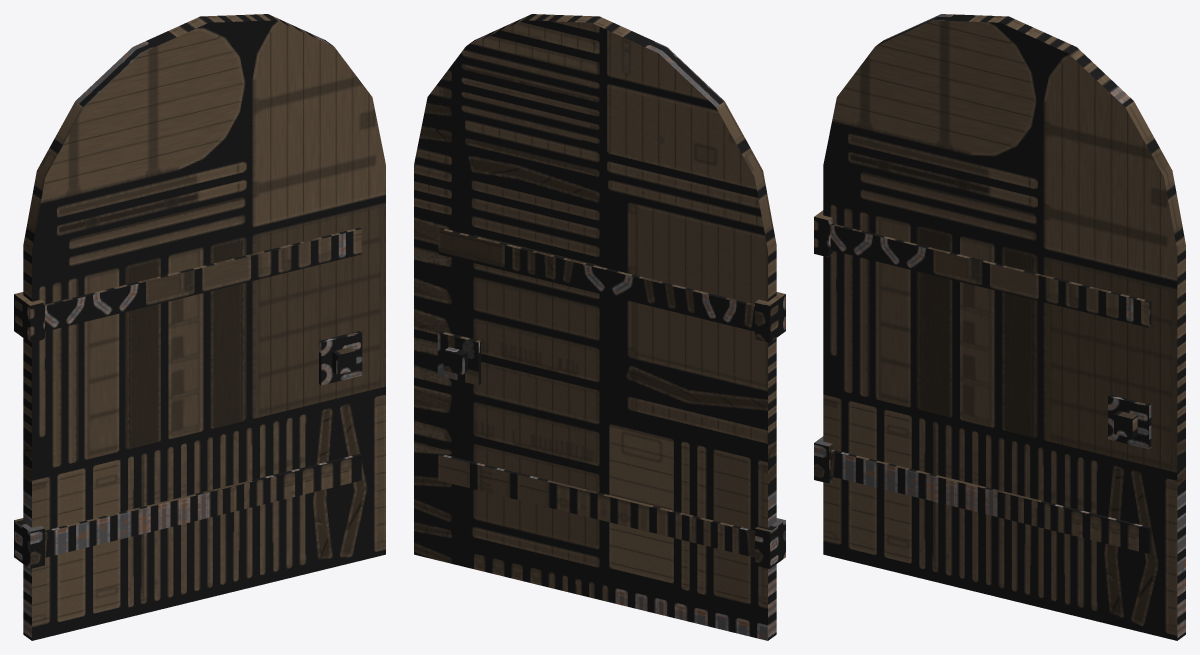
The model's file is porte.fbx.
3 views of the same model, side by side, from view 1: azimuth 30°, elevation 25°; view 2: azimuth 150°, elevation 25°; view 3: azimuth 330°, elevation 25° (orthographic).
Parts seen in each view (by area): view 1: porte; view 2: porte; view 3: porte.
Boxes of the visible parts, bbox=[...] form: porte: bbox=[14, 14, 385, 640]; porte: bbox=[414, 14, 785, 640]; porte: bbox=[814, 14, 1185, 640].
Size of the model in its own units: 1.93 by 2.95 by 0.22.
1 material, 1 textured.
